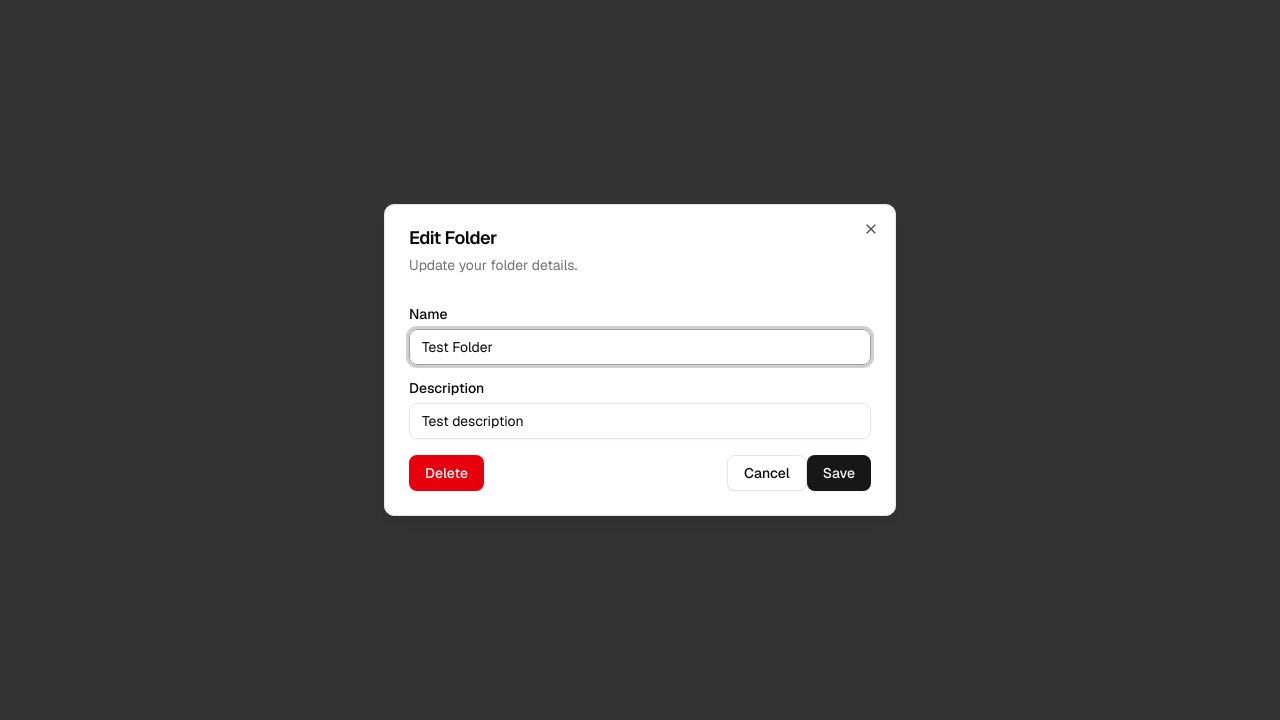
Test: EditFolderModal › form submission › shows loading state during submission
Click the button "Save": (839, 473) [807,455,871,491]
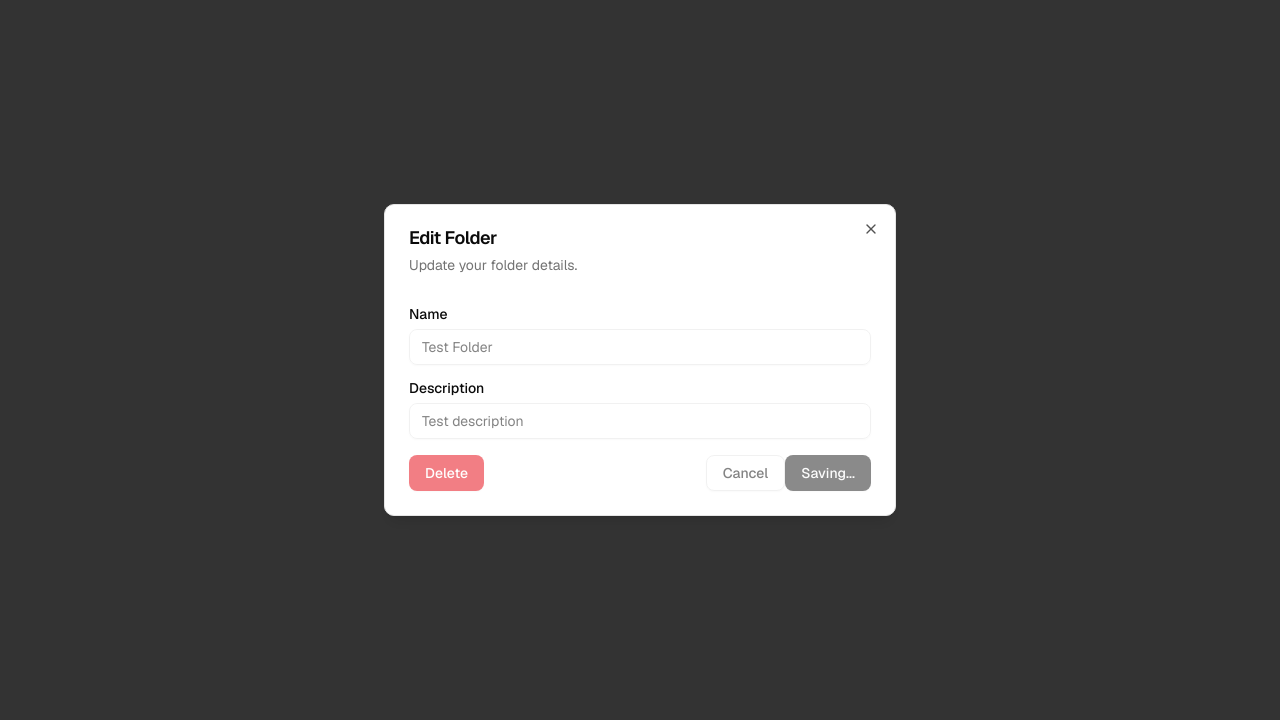
Check: the button "Saving..." is disabled, box [785,455,871,491]
